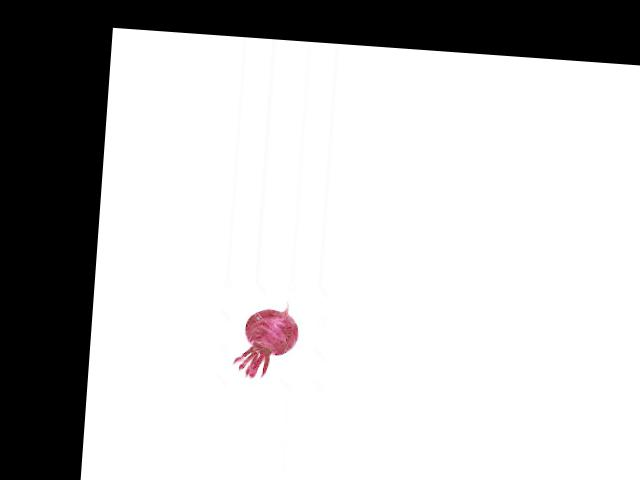beet: (232, 297, 301, 381)
